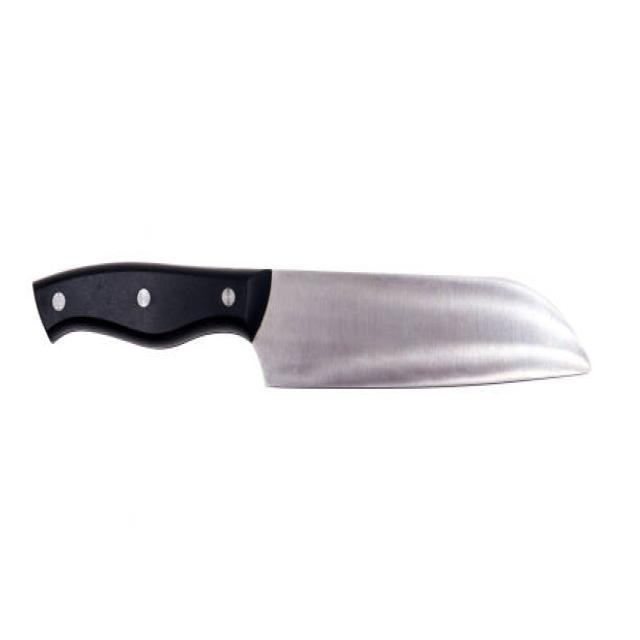knife: (27, 248, 598, 409)
